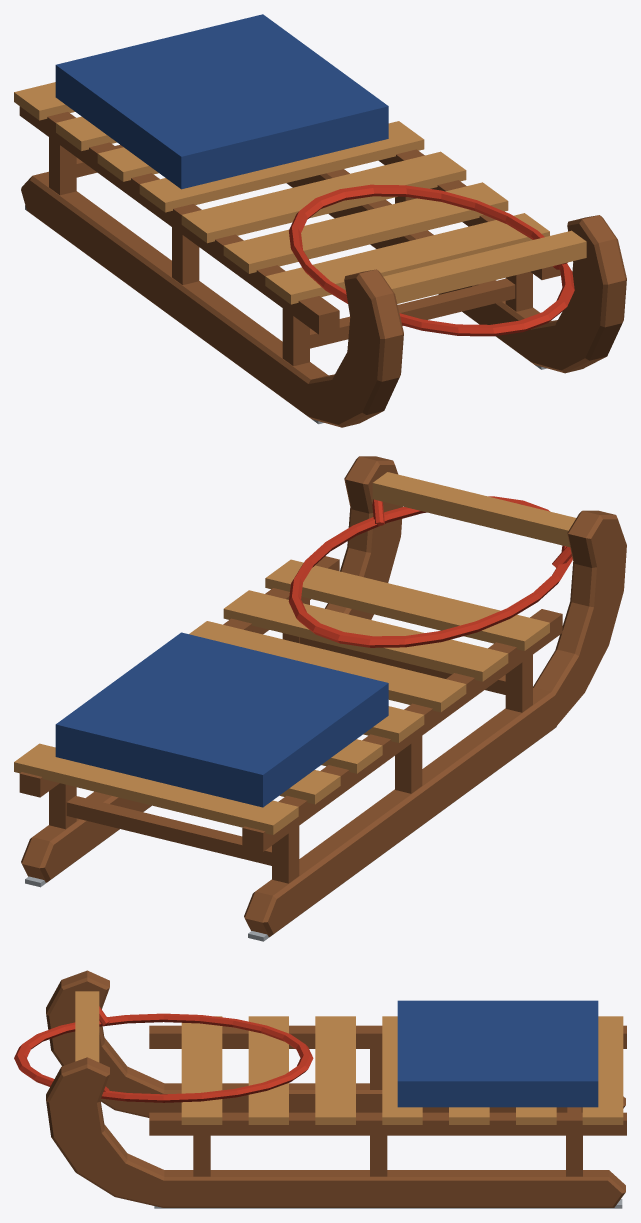
Rendered from sled.glb.
3 views of the same model, one above another, from view 1: azimuth 30°, elevation 25°; view 2: azimuth 150°, elevation 25°; view 3: azimuth 270°, elevation 25° (orthographic). The views are drawn at different scales.
Visible parts, largest first — view 1: cushion10, beech0_mx, beech0, ash8_6, ash8_5, ash8_7, rope11, ash9, ash8_4, beech5_mx, beech7, ash8_1 (+7 smaller); view 2: cushion10, beech0_mx, beech0, ash8_7, ash8_6, ash8_1, ash9, ash8_5, beech5_mx, rope11, beech6, beech5 (+8 smaller); view 3: beech0, cushion10, beech0_mx, beech5, rope11, ash8_5, ash8_7, ash8_6, ash8_1, beech5_mx, ash8_4, ash9 (+7 smaller).
Part boxes in pixels (x1=…): cushion10: x1=55, y1=14, x2=388, y2=189; beech0_mx: x1=21, y1=171, x2=403, y2=427; beech0: x1=286, y1=169, x2=626, y2=373; ash8_6: x1=223, y1=182, x2=508, y2=273; ash8_5: x1=181, y1=151, x2=466, y2=243; ash8_7: x1=265, y1=213, x2=549, y2=304; rope11: x1=289, y1=184, x2=574, y2=336; ash9: x1=383, y1=230, x2=586, y2=303; ash8_4: x1=139, y1=121, x2=424, y2=212; beech5_mx: x1=19, y1=106, x2=339, y2=334; beech7: x1=310, y1=278, x2=515, y2=348; ash8_1: x1=14, y1=82, x2=74, y2=120; cushion10: x1=55, y1=632, x2=388, y2=807; beech0_mx: x1=244, y1=510, x2=626, y2=936; beech0: x1=21, y1=456, x2=402, y2=882; ash8_7: x1=265, y1=559, x2=549, y2=650; ash8_6: x1=223, y1=590, x2=508, y2=681; ash8_1: x1=14, y1=743, x2=298, y2=834; ash9: x1=372, y1=472, x2=575, y2=547; ash8_5: x1=189, y1=621, x2=466, y2=712; beech5_mx: x1=242, y1=609, x2=562, y2=851; rope11: x1=288, y1=496, x2=572, y2=647; beech6: x1=66, y1=796, x2=271, y2=865; beech5: x1=19, y1=556, x2=339, y2=797; beech0: x1=46, y1=1057, x2=625, y2=1207; cushion10: x1=397, y1=1000, x2=598, y2=1107; beech0_mx: x1=46, y1=970, x2=625, y2=1117; beech5: x1=149, y1=1112, x2=626, y2=1135; rope11: x1=14, y1=1013, x2=313, y2=1102; ash8_5: x1=315, y1=1016, x2=355, y2=1124; ash8_7: x1=181, y1=1016, x2=222, y2=1124; ash8_6: x1=248, y1=1016, x2=288, y2=1124; ash8_1: x1=582, y1=1016, x2=623, y2=1124; beech5_mx: x1=149, y1=1025, x2=626, y2=1048; ash8_4: x1=382, y1=1016, x2=422, y2=1124; ash9: x1=75, y1=991, x2=99, y2=1062.
Bounding box in the file's own units: 0.5 × 0.3346 × 1.28.
